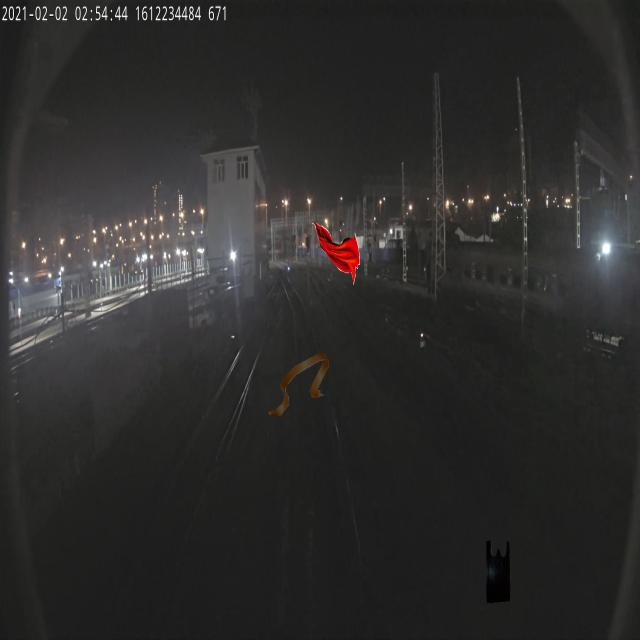floating object: (268, 353, 329, 417), (311, 221, 360, 285)
plastic bag: (486, 540, 510, 604)
